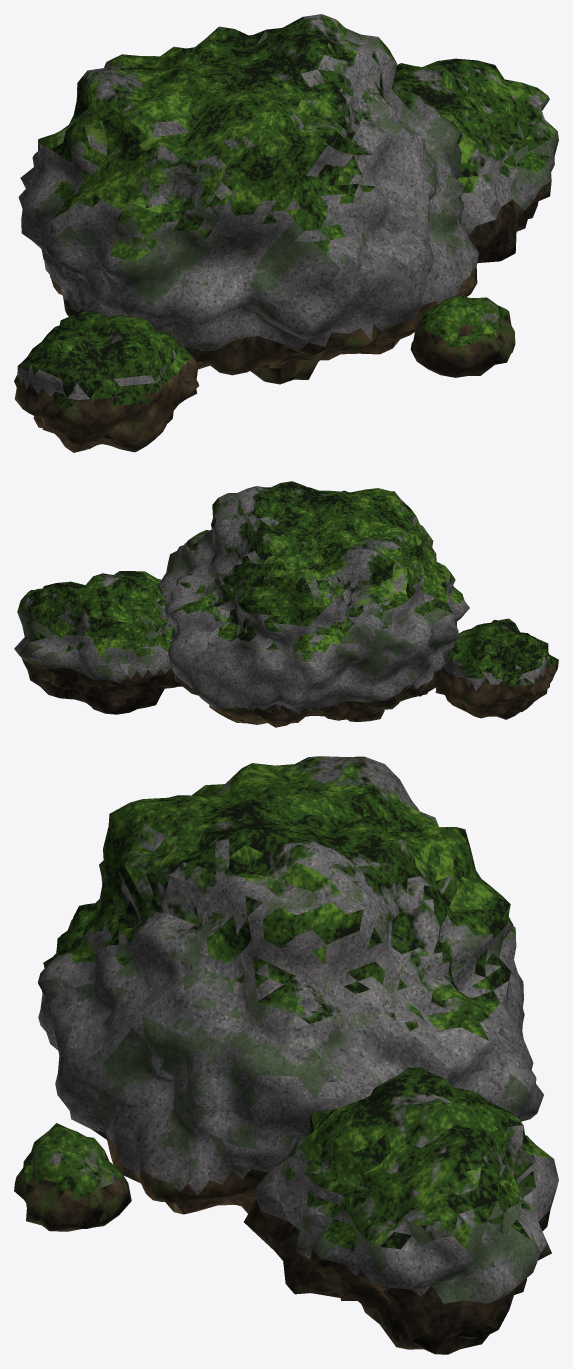
Rendered from Boulder_Granite_A.glb.
The picture shows the model from 3 angles, top to bottom: view 1: azimuth 30°, elevation 25°; view 2: azimuth 150°, elevation 25°; view 3: azimuth 270°, elevation 25°; orthographic projection. The views are drawn at different scales.
Parts seen in each view (by area): view 1: Boulder_Granite_A__Stone; view 2: Boulder_Granite_A__Stone; view 3: Boulder_Granite_A__Stone.
Boxes of the visible parts, box(x1,y1,x2,y2) form: Boulder_Granite_A__Stone: box(14, 14, 558, 452); Boulder_Granite_A__Stone: box(14, 481, 558, 727); Boulder_Granite_A__Stone: box(14, 756, 558, 1354).
Bounding box in the file's own units: 17.25 × 7.81 × 10.49.
1 material, 1 textured.
